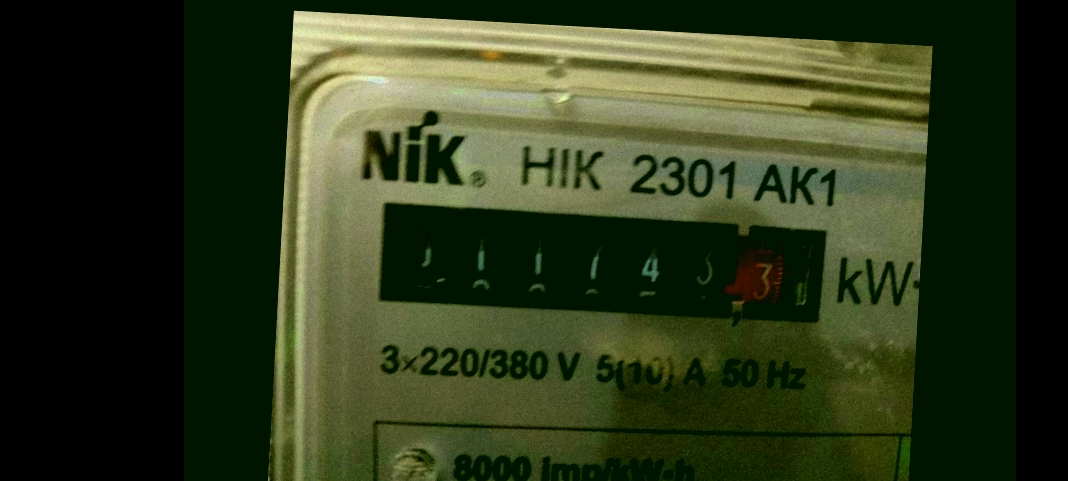0: (406, 221, 438, 270)
1: (526, 229, 550, 278), (471, 226, 491, 275)
3: (690, 240, 720, 288), (749, 257, 776, 303)
4: (636, 236, 667, 286)
7: (582, 234, 609, 283)
screen: (362, 191, 834, 335)
